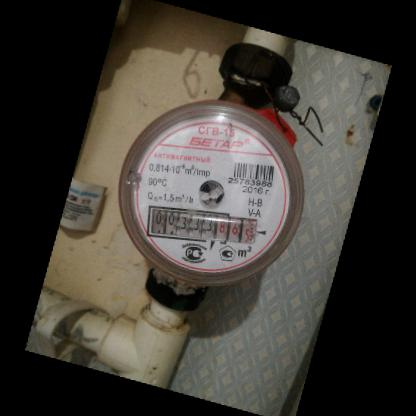digital_screen: (144, 205, 219, 244)
